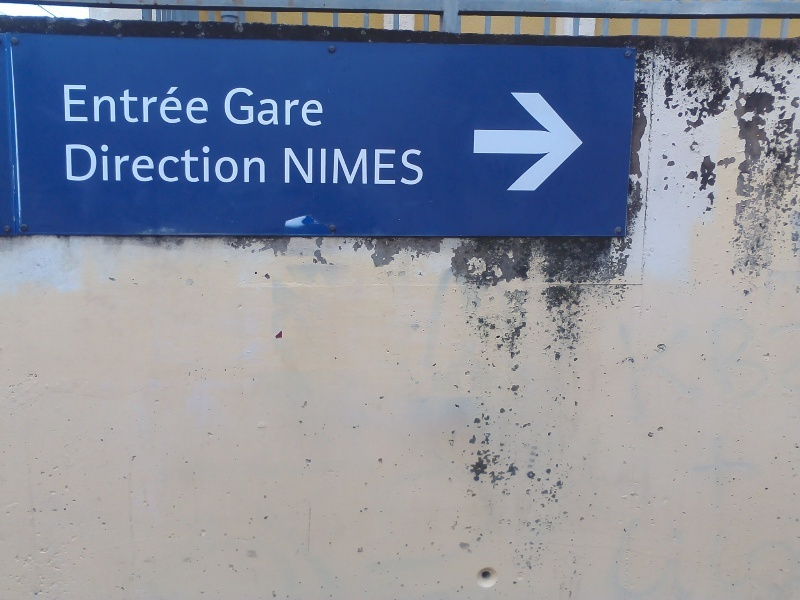text: (81, 142, 96, 185), (97, 142, 112, 185), (113, 142, 128, 185), (129, 142, 144, 185), (145, 142, 160, 185), (161, 142, 176, 185), (177, 142, 192, 185), (193, 142, 208, 185), (209, 142, 224, 185), (225, 142, 240, 185), (241, 142, 256, 185), (225, 85, 240, 127), (241, 85, 256, 127), (257, 85, 272, 127), (273, 85, 288, 127), (289, 85, 304, 127), (305, 85, 320, 127), (65, 83, 80, 124), (81, 83, 96, 124), (97, 83, 112, 124), (113, 83, 128, 124), (129, 83, 144, 124), (145, 83, 160, 124), (161, 83, 176, 124), (177, 83, 192, 124), (193, 83, 208, 124), (66, 142, 80, 185), (289, 147, 304, 186), (305, 147, 320, 186), (321, 147, 336, 186), (337, 147, 352, 186), (353, 147, 368, 186), (369, 147, 384, 186), (385, 147, 400, 186), (401, 147, 416, 186), (257, 142, 266, 185), (417, 147, 424, 186), (284, 147, 288, 186), (321, 85, 324, 127), (62, 83, 64, 124), (209, 83, 210, 124)
